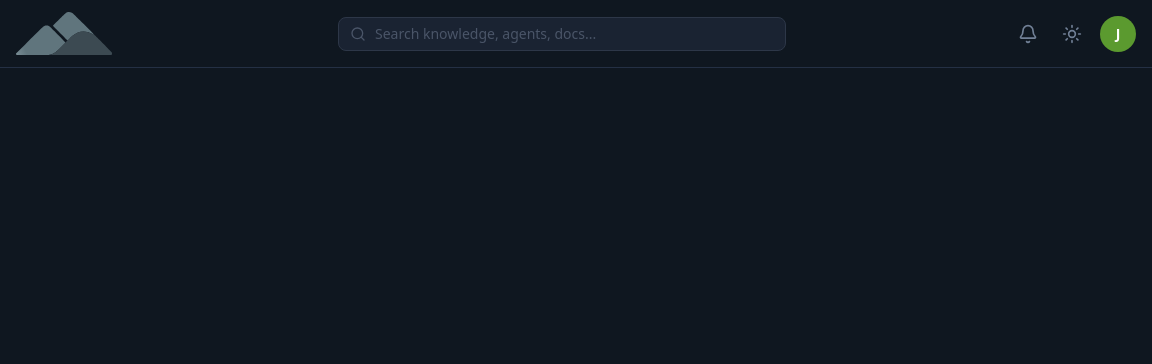
Test case: TopBar — Notification dropdown › opens dropdown on bell click
What coordinates should you click on to do the following:
click the button with test id "notifications-bell"
I would click on:
 (1028, 34)
Its box is [1012,18,1044,50].
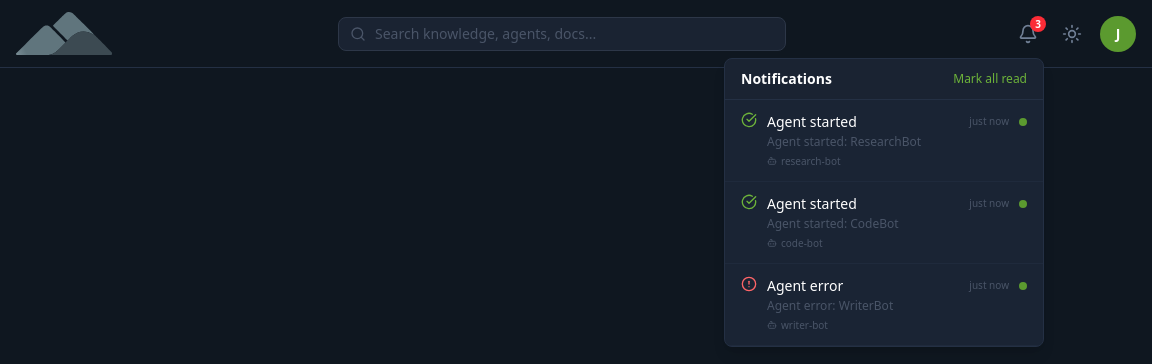
Check: the element with test id "notifications-dropdown" is shown, box [724,58,1044,347]
Check: the heading "Notifications" is shown, box [741,69,832,89]
